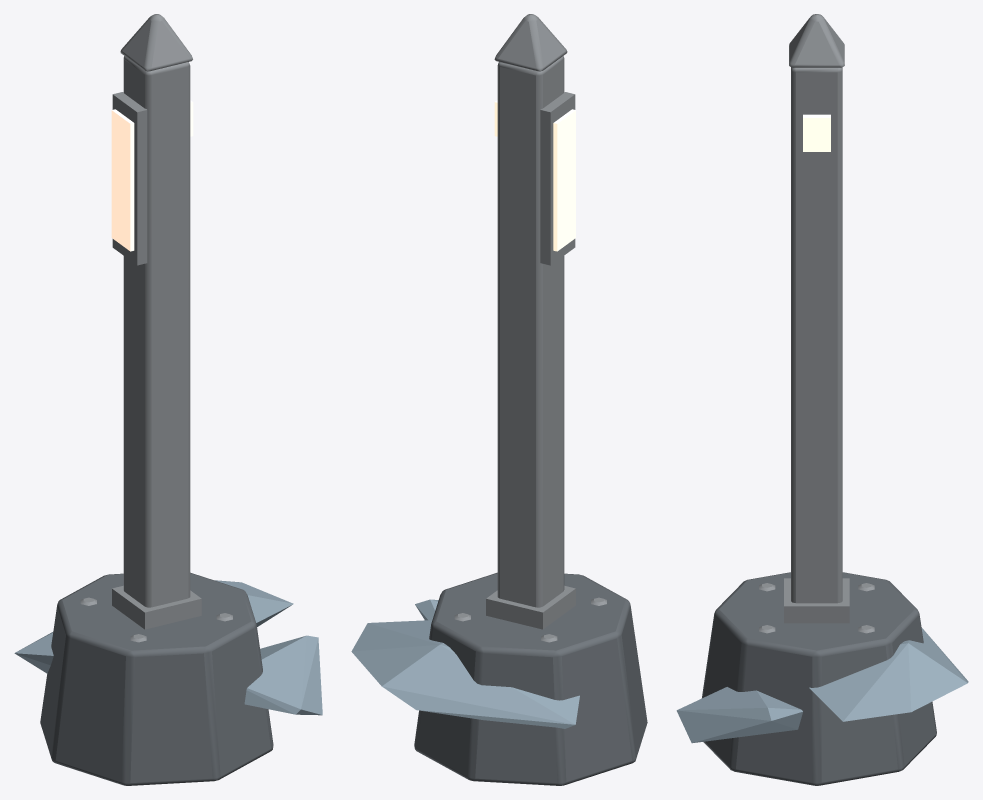
The model's file is marker.glb.
The picture shows the model from 3 angles, left to right: view 1: azimuth 30°, elevation 25°; view 2: azimuth 150°, elevation 25°; view 3: azimuth 270°, elevation 25°; orthographic projection.
Visible parts, largest first — view 1: marker; view 2: marker; view 3: marker.
Part boxes in pixels (box(x1,y1,x2,y2)): marker: box(14, 14, 322, 785); marker: box(351, 14, 647, 785); marker: box(676, 14, 968, 785).
Size of the model in its own units: 0.6255 by 1.7 by 0.6231.
